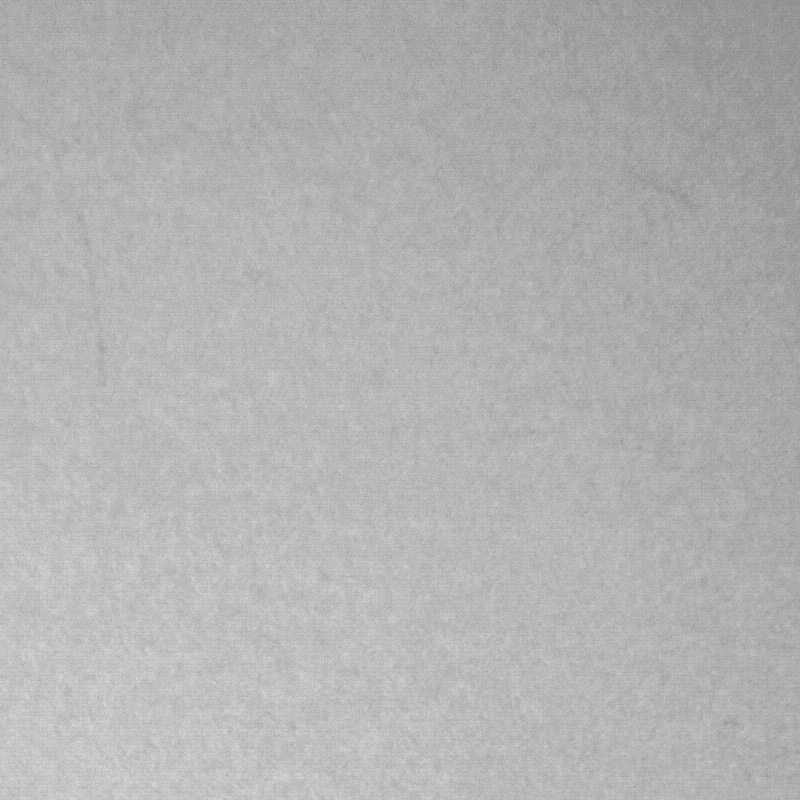defect: (88, 298, 115, 383)
